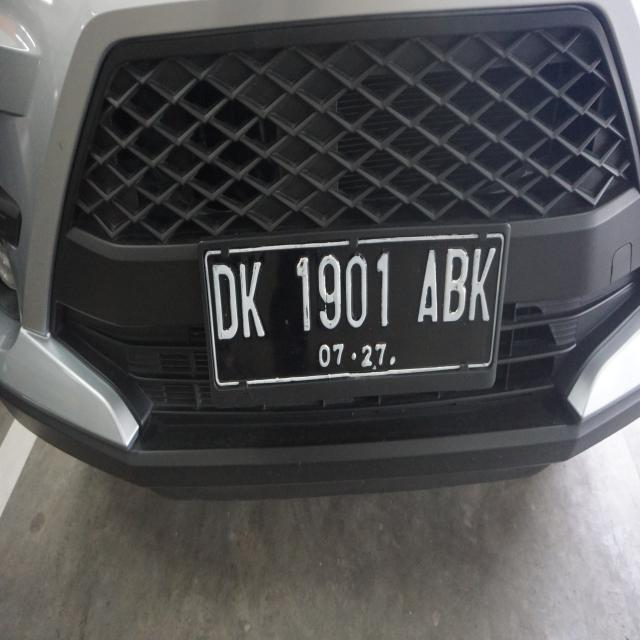0: (346, 253, 370, 330)
1: (288, 252, 316, 332), (370, 250, 393, 328)
9: (316, 255, 344, 338)
A: (412, 245, 442, 334)
B: (442, 246, 470, 328)
D: (207, 251, 240, 347)
K: (234, 268, 278, 339), (469, 244, 497, 328)
